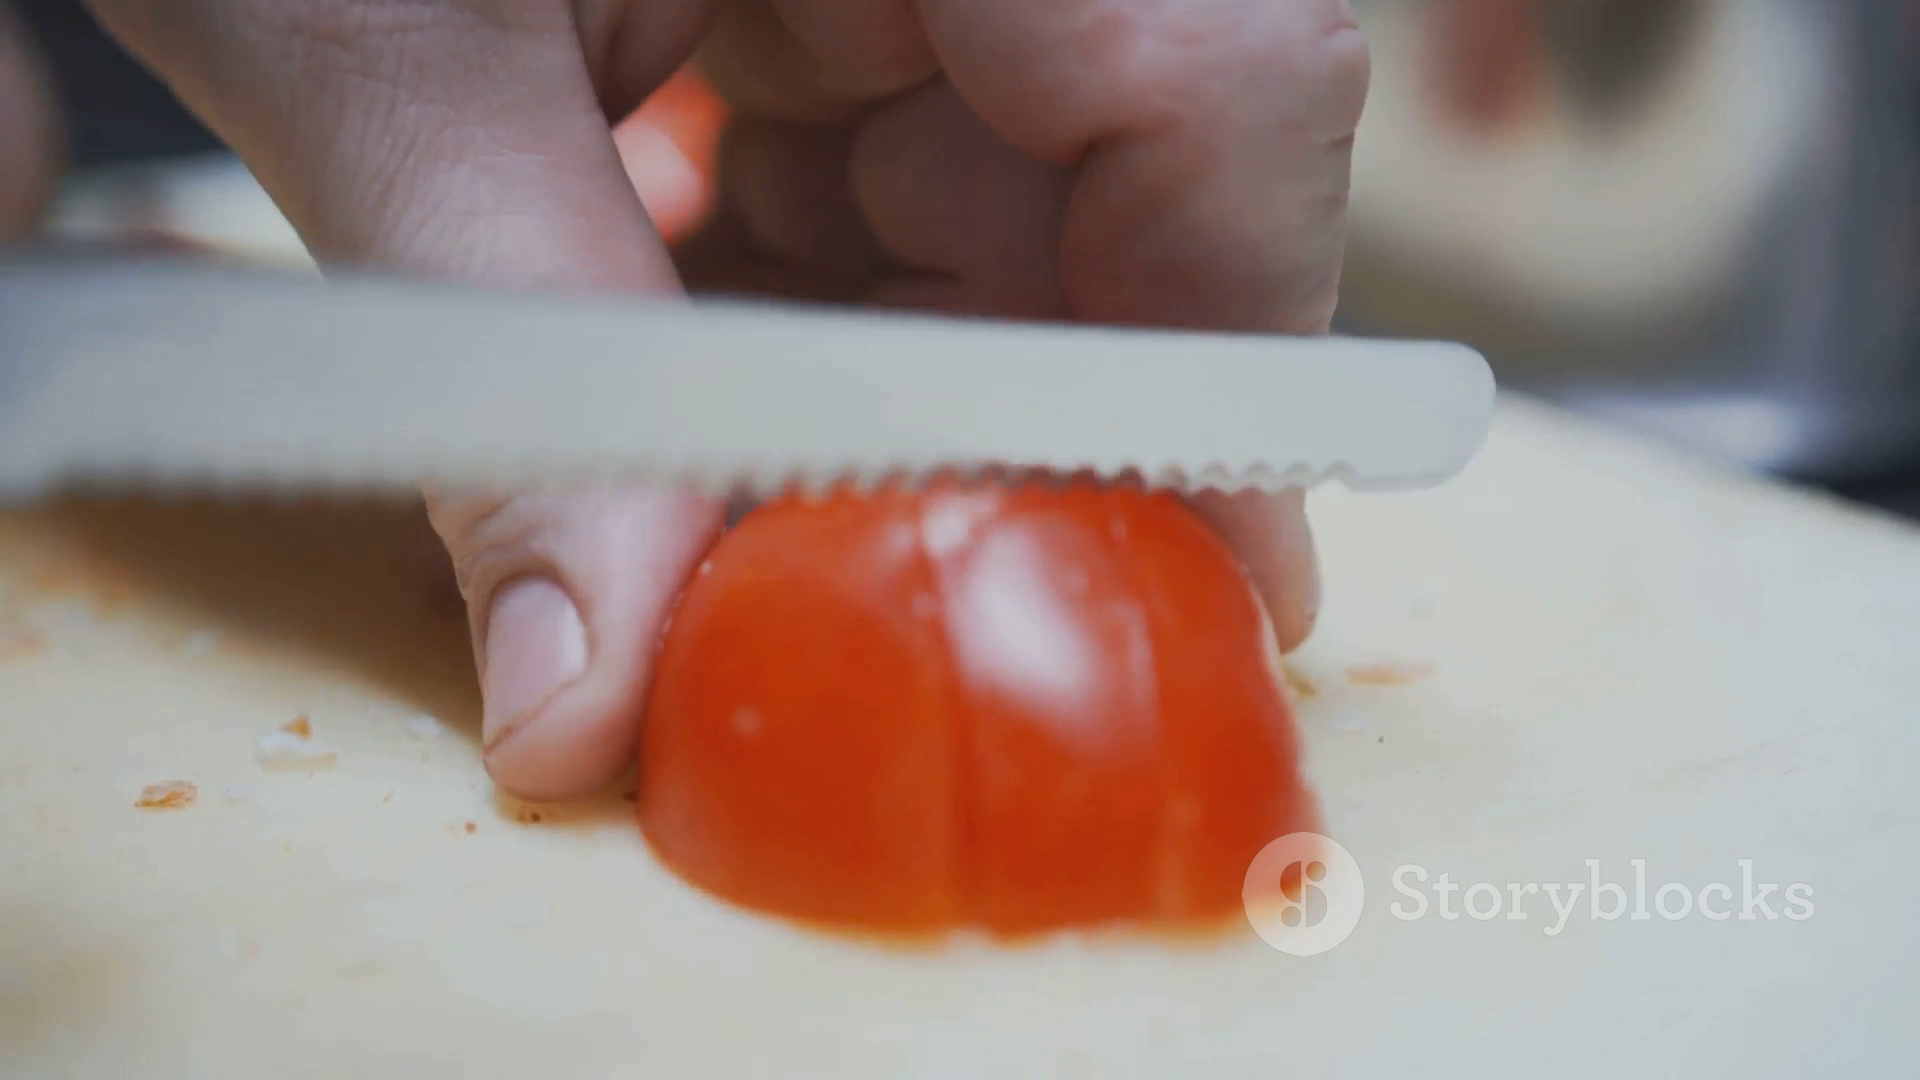cortante: (0, 265, 1497, 506)
